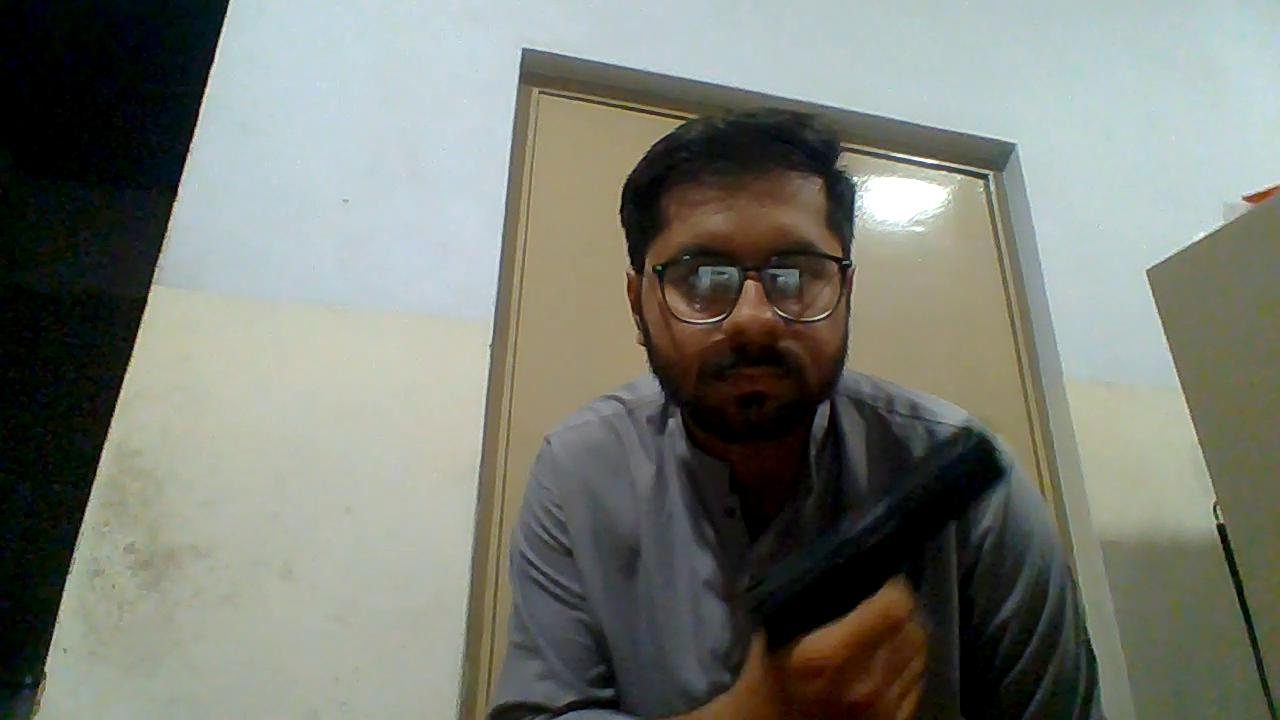criminal: (481, 106, 1102, 720)
weapon: (747, 427, 1014, 647)
